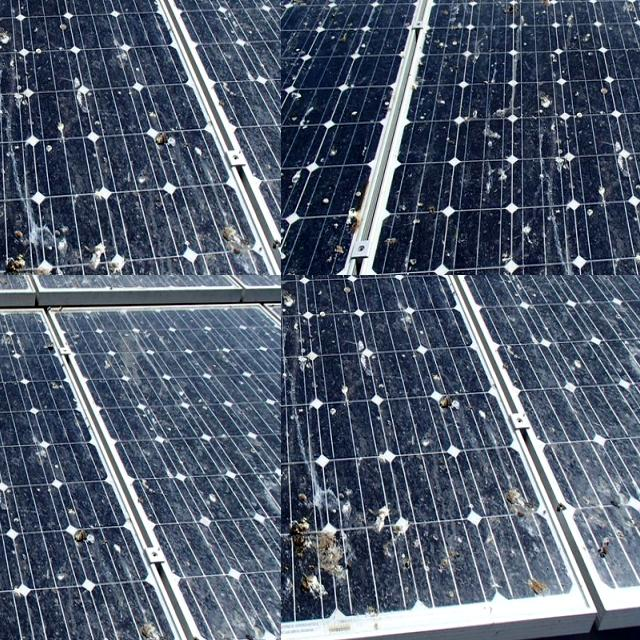bird: (281, 513, 362, 619), (494, 470, 546, 524), (368, 492, 419, 546), (578, 518, 630, 570), (432, 380, 480, 414), (281, 463, 304, 530), (281, 567, 299, 640), (16, 22, 44, 62), (281, 281, 295, 347), (281, 349, 295, 410), (0, 0, 27, 23), (35, 0, 86, 7), (0, 0, 13, 25), (0, 0, 14, 23), (0, 0, 13, 22), (0, 0, 11, 23), (87, 0, 103, 15), (16, 0, 39, 10), (0, 0, 10, 21), (0, 7, 11, 26), (6, 0, 23, 11), (0, 0, 15, 11), (0, 0, 12, 13), (0, 0, 13, 11), (0, 0, 17, 8), (0, 0, 12, 11), (0, 2, 10, 15), (0, 0, 13, 10), (52, 0, 65, 7), (0, 0, 7, 12), (0, 0, 8, 9)
crack: (281, 112, 537, 275), (281, 44, 510, 206), (287, 0, 495, 116), (491, 113, 640, 262), (484, 63, 640, 181), (482, 22, 640, 128), (463, 0, 635, 91), (503, 181, 640, 275), (311, 0, 494, 42)
hotspot: (97, 398, 281, 624), (0, 391, 125, 583)
